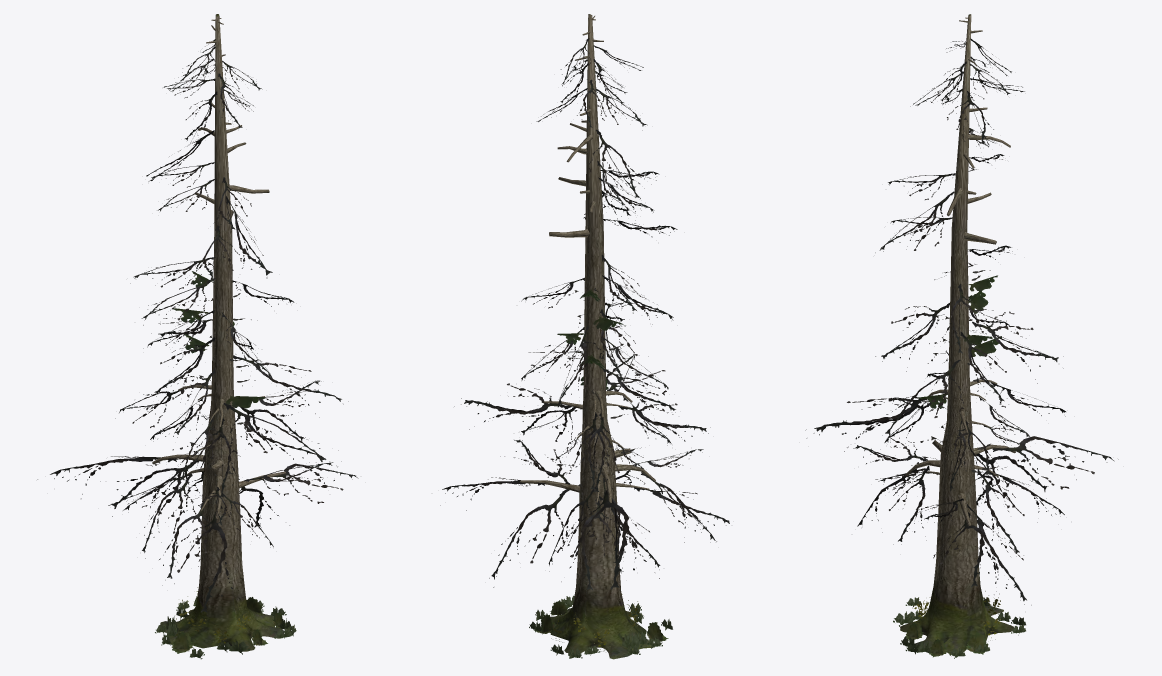
Rendered from tree_dead04.glb.
The picture shows the model from 3 angles, left to right: view 1: azimuth 30°, elevation 25°; view 2: azimuth 150°, elevation 25°; view 3: azimuth 270°, elevation 25°; orthographic projection.
Parts seen in each view (by area): view 1: 0_Arbre01_b; view 2: 0_Arbre01_b; view 3: 0_Arbre01_b.
Boxes of the visible parts, box(x1,y1,x2,y2) form: 0_Arbre01_b: box(37, 14, 358, 659); 0_Arbre01_b: box(440, 14, 729, 659); 0_Arbre01_b: box(805, 14, 1118, 658).
Size of the model in its own units: 5.21 by 10.4 by 5.62.
Materials: 1 (1 with a texture image).
